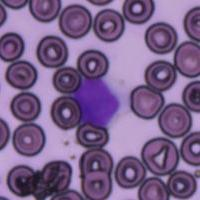M: (70, 75, 130, 130)
